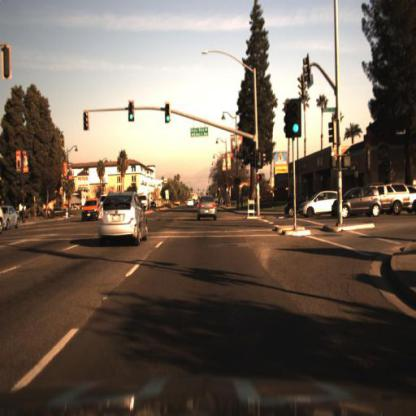car: (97, 191, 151, 248), (332, 185, 383, 221), (369, 183, 410, 216), (300, 191, 337, 221), (195, 192, 220, 224), (81, 196, 105, 225), (1, 206, 22, 233), (285, 193, 304, 220), (184, 197, 197, 214)
trafficLight: (83, 110, 91, 130)
trafficLight-Green: (289, 97, 301, 138), (127, 99, 137, 126), (126, 101, 135, 121), (165, 103, 172, 126), (256, 151, 264, 169)
